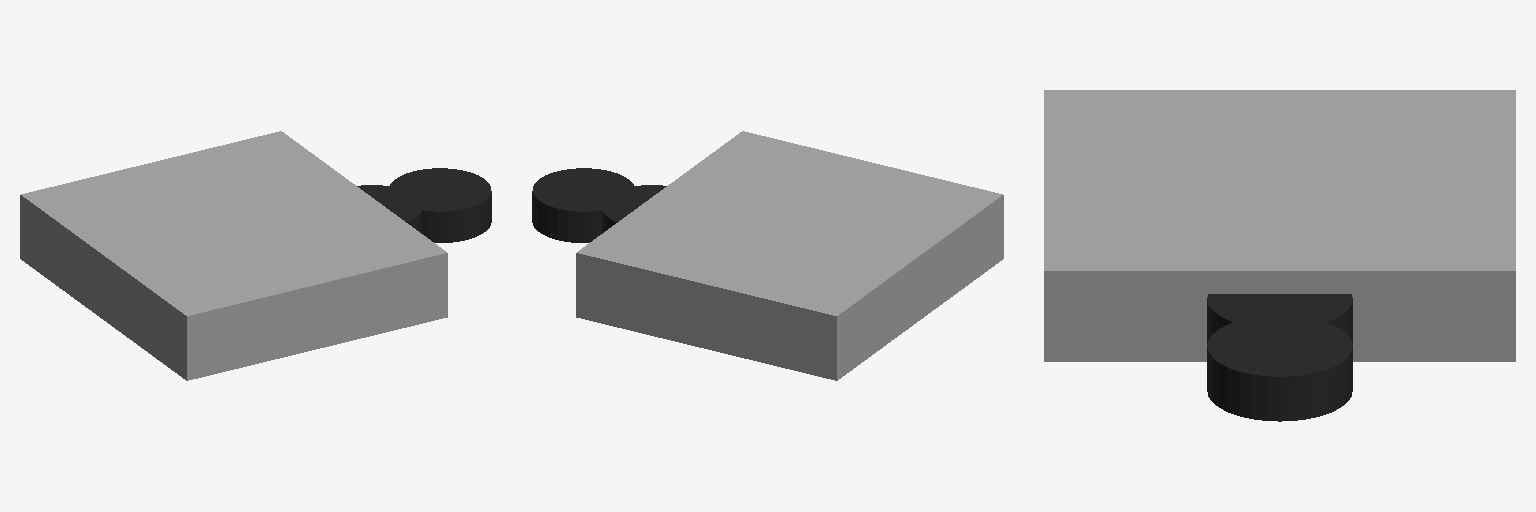
robot.urdf — evolved_robot:
<?xml version="1.0"?>
<robot name="evolved_robot">
  <material name="metal">
    <color rgba="0.7 0.7 0.7 1.0"/>
  </material>
  <material name="plastic">
    <color rgba="0.3 0.3 0.9 1.0"/>
  </material>
  <material name="rubber">
    <color rgba="0.1 0.1 0.1 1.0"/>
  </material>
  <material name="red">
    <color rgba="1.0 0.0 0.0 1.0"/>
  </material>
  <material name="wheel_material">
    <color rgba="0.2 0.2 0.2 1.0"/>
  </material>
  <link name="base_link">
    <visual>
      <geometry><box size="0.38 0.42000000000000004 0.09000000000000001"/></geometry>
      <material name="metal"/>
    </visual>
    <collision>
      <geometry><box size="0.38 0.42000000000000004 0.09000000000000001"/></geometry>
    </collision>
    <inertial>
      <mass value="2.0"/>
      <inertia ixx="0.02" ixy="0" ixz="0" iyy="0.02" iyz="0" izz="0.02"/>
    </inertial>
  </link>
  <link name="link1">
    <visual>
      <geometry><cylinder radius="0.065" length="0.044"/></geometry>
      <material name="wheel_material"/>
    </visual>
    <collision>
      <geometry><cylinder radius="0.065" length="0.044"/></geometry>
    </collision>
    <inertial>
      <mass value="1.0"/>
      <inertia ixx="0.001" ixy="0" ixz="0" iyy="0.001" iyz="0" izz="0.001"/>
    </inertial>
  </link>
  <joint name="joint1" type="continuous">
    <parent link="base_link"/>
    <child link="link1"/>
    <origin xyz="0.1 0 0" rpy="0 0 0"/>
    <axis xyz="0 0 1"/>
    <dynamics damping="0.91" friction="0.1"/>
  </joint>
  <link name="link2">
    <visual>
      <geometry><cylinder radius="0.065" length="0.044"/></geometry>
      <material name="wheel_material"/>
    </visual>
    <collision>
      <geometry><cylinder radius="0.065" length="0.044"/></geometry>
    </collision>
    <inertial>
      <mass value="1.0"/>
      <inertia ixx="0.001" ixy="0" ixz="0" iyy="0.001" iyz="0" izz="0.001"/>
    </inertial>
  </link>
  <joint name="joint2" type="continuous">
    <parent link="base_link"/>
    <child link="link2"/>
    <origin xyz="0.2 0 0" rpy="0 0 0"/>
    <axis xyz="0 0 1"/>
    <dynamics damping="0.91" friction="0.1"/>
  </joint>
  <link name="link3">
    <visual>
      <geometry><cylinder radius="0.065" length="0.044"/></geometry>
      <material name="wheel_material"/>
    </visual>
    <collision>
      <geometry><cylinder radius="0.065" length="0.044"/></geometry>
    </collision>
    <inertial>
      <mass value="1.0"/>
      <inertia ixx="0.001" ixy="0" ixz="0" iyy="0.001" iyz="0" izz="0.001"/>
    </inertial>
  </link>
  <joint name="joint3" type="continuous">
    <parent link="base_link"/>
    <child link="link3"/>
    <origin xyz="0.30000000000000004 0 0" rpy="0 0 0"/>
    <axis xyz="0 0 1"/>
    <dynamics damping="0.91" friction="0.1"/>
  </joint>
</robot>

--- What the picture shows (computed from the rendered views, not written in the file) ---
The picture shows the robot from 3 angles, left to right: view 1: azimuth 30°, elevation 25°; view 2: azimuth 150°, elevation 25°; view 3: azimuth 270°, elevation 25°; orthographic projection.
Robot: evolved_robot — 4 links, 3 joints (3 continuous); root link base_link; default pose: all joints at 0.
Visible links, largest first — view 1: base_link, link3, link2; view 2: base_link, link3, link2; view 3: base_link, link3, link2.
Boxes of the visible links, box(x1,y1,x2,y2) form: base_link: box(20, 131, 447, 380); link3: box(389, 168, 491, 242); link2: box(357, 185, 422, 233); base_link: box(576, 131, 1003, 380); link3: box(532, 168, 634, 242); link2: box(601, 185, 666, 233); base_link: box(1044, 90, 1515, 361); link3: box(1207, 315, 1352, 421); link2: box(1207, 294, 1352, 343).
Size in the robot's own frame: 0.555 by 0.42 by 0.09 metres.
Geometry: primitives only (box / cylinder / sphere), no mesh files.